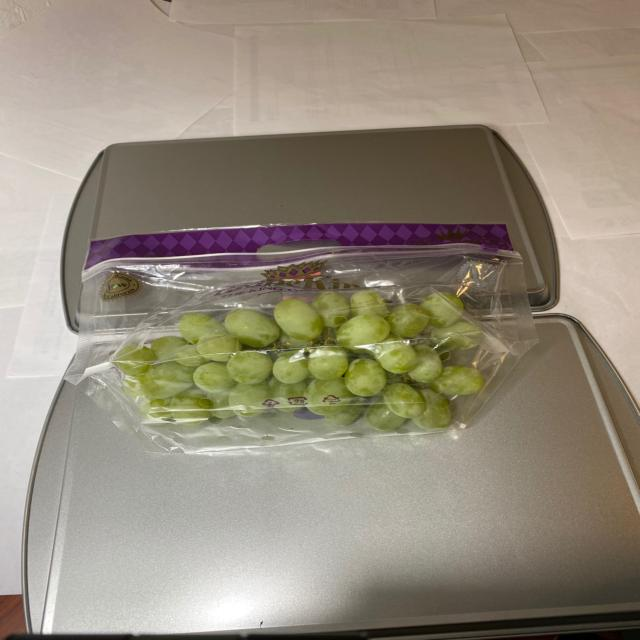grapes: (130, 291, 516, 443)
